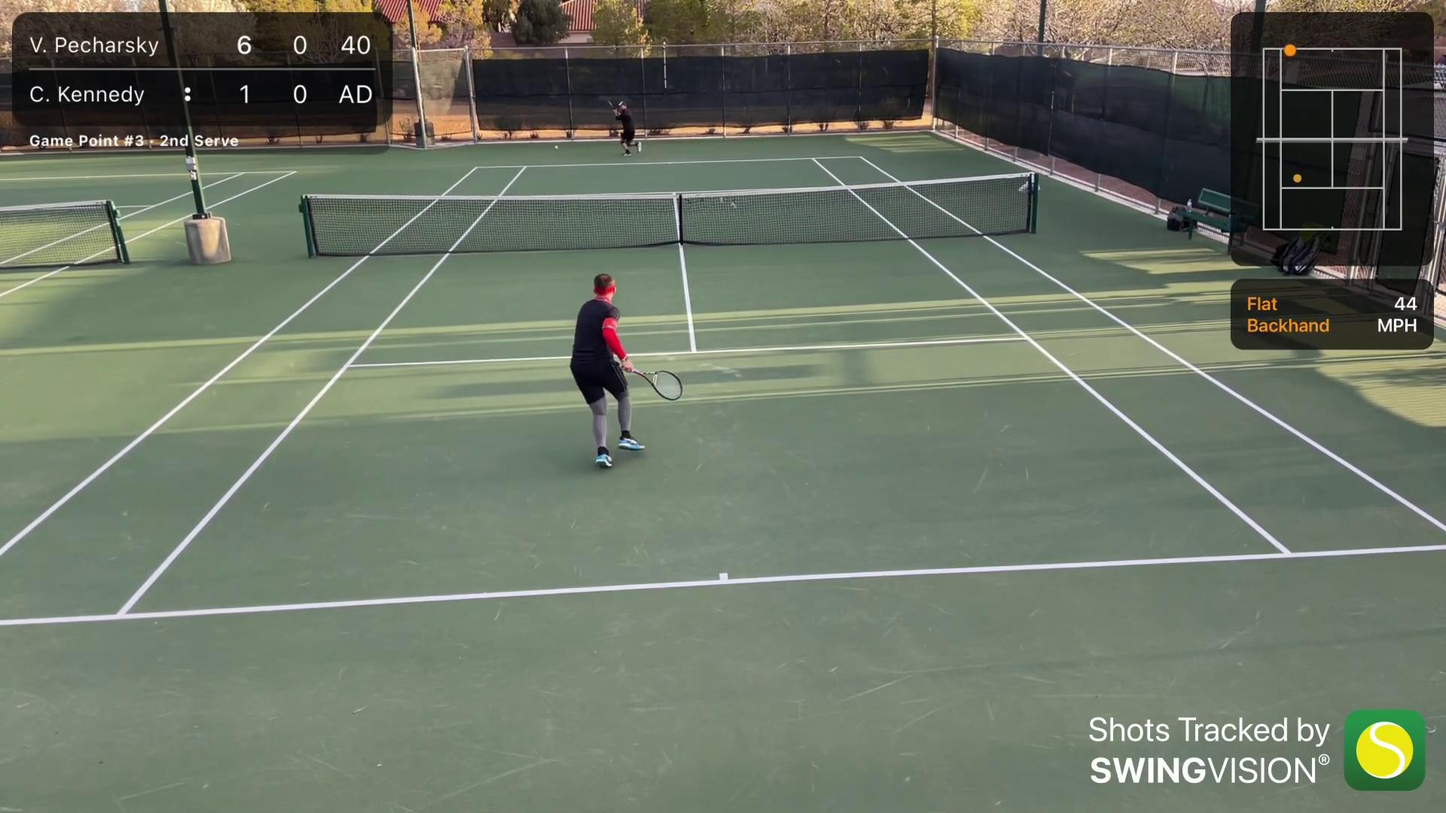ball: (554, 144, 560, 151)
